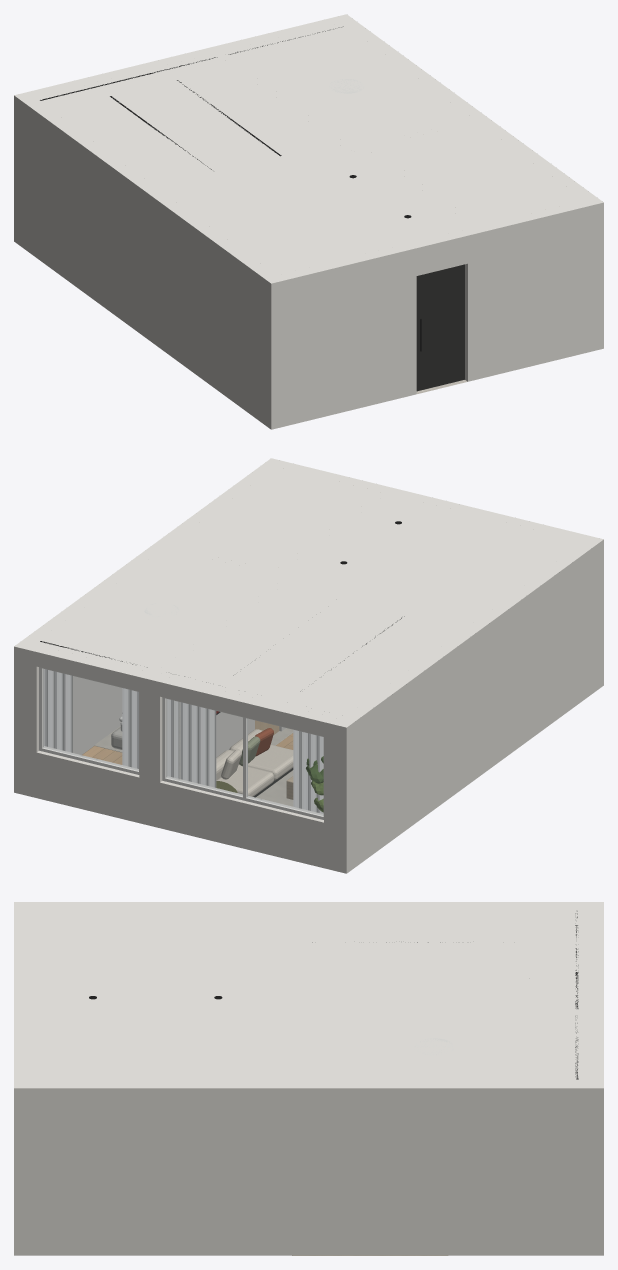
3 views of the same model, one above another, from view 1: azimuth 30°, elevation 25°; view 2: azimuth 150°, elevation 25°; view 3: azimuth 270°, elevation 25° (orthographic). The views are drawn at different scales.
Parts seen in each view (by area): view 1: Interior, Ceiling; view 2: Ceiling, Interior, Glass, Curtains; view 3: Ceiling, Interior.
Part boxes in pixels (box(x1,y1,x2,y2)): Interior: box(14, 95, 603, 429); Ceiling: box(14, 14, 603, 283); Ceiling: box(14, 458, 603, 727); Interior: box(14, 539, 603, 873); Glass: box(43, 669, 323, 815); Curtains: box(44, 669, 323, 813); Ceiling: box(14, 902, 603, 1088); Interior: box(14, 1088, 603, 1255).
Size of the model in its own units: 6.49 by 2.73 by 8.68.
45 materials, 17 textured.
